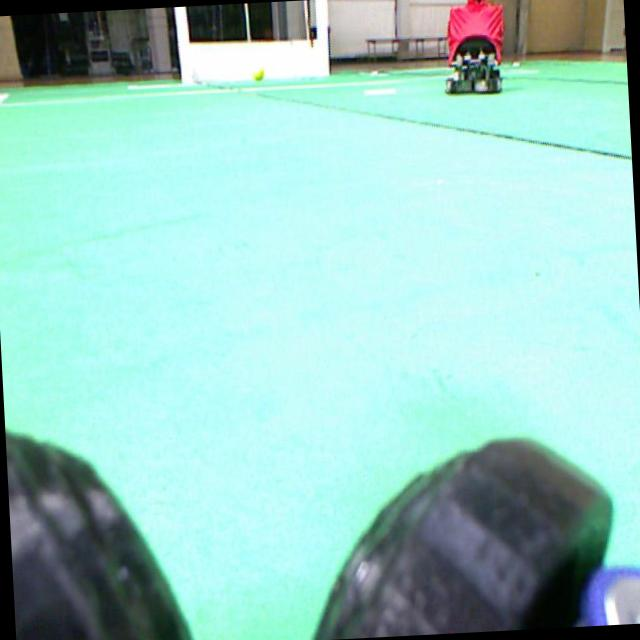ball: (253, 65, 265, 80)
goal: (175, 7, 195, 84), (315, 0, 329, 75)
